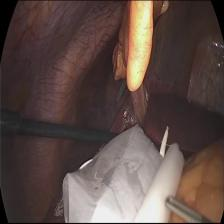Grasper: (165, 190, 209, 224), (114, 79, 130, 105)
Specimen Bag: (61, 123, 186, 224)
